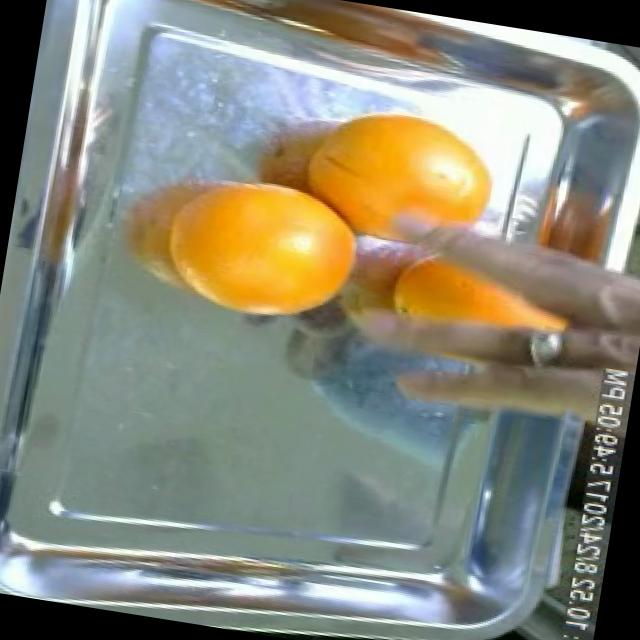Fruit: (168, 164, 380, 342)
